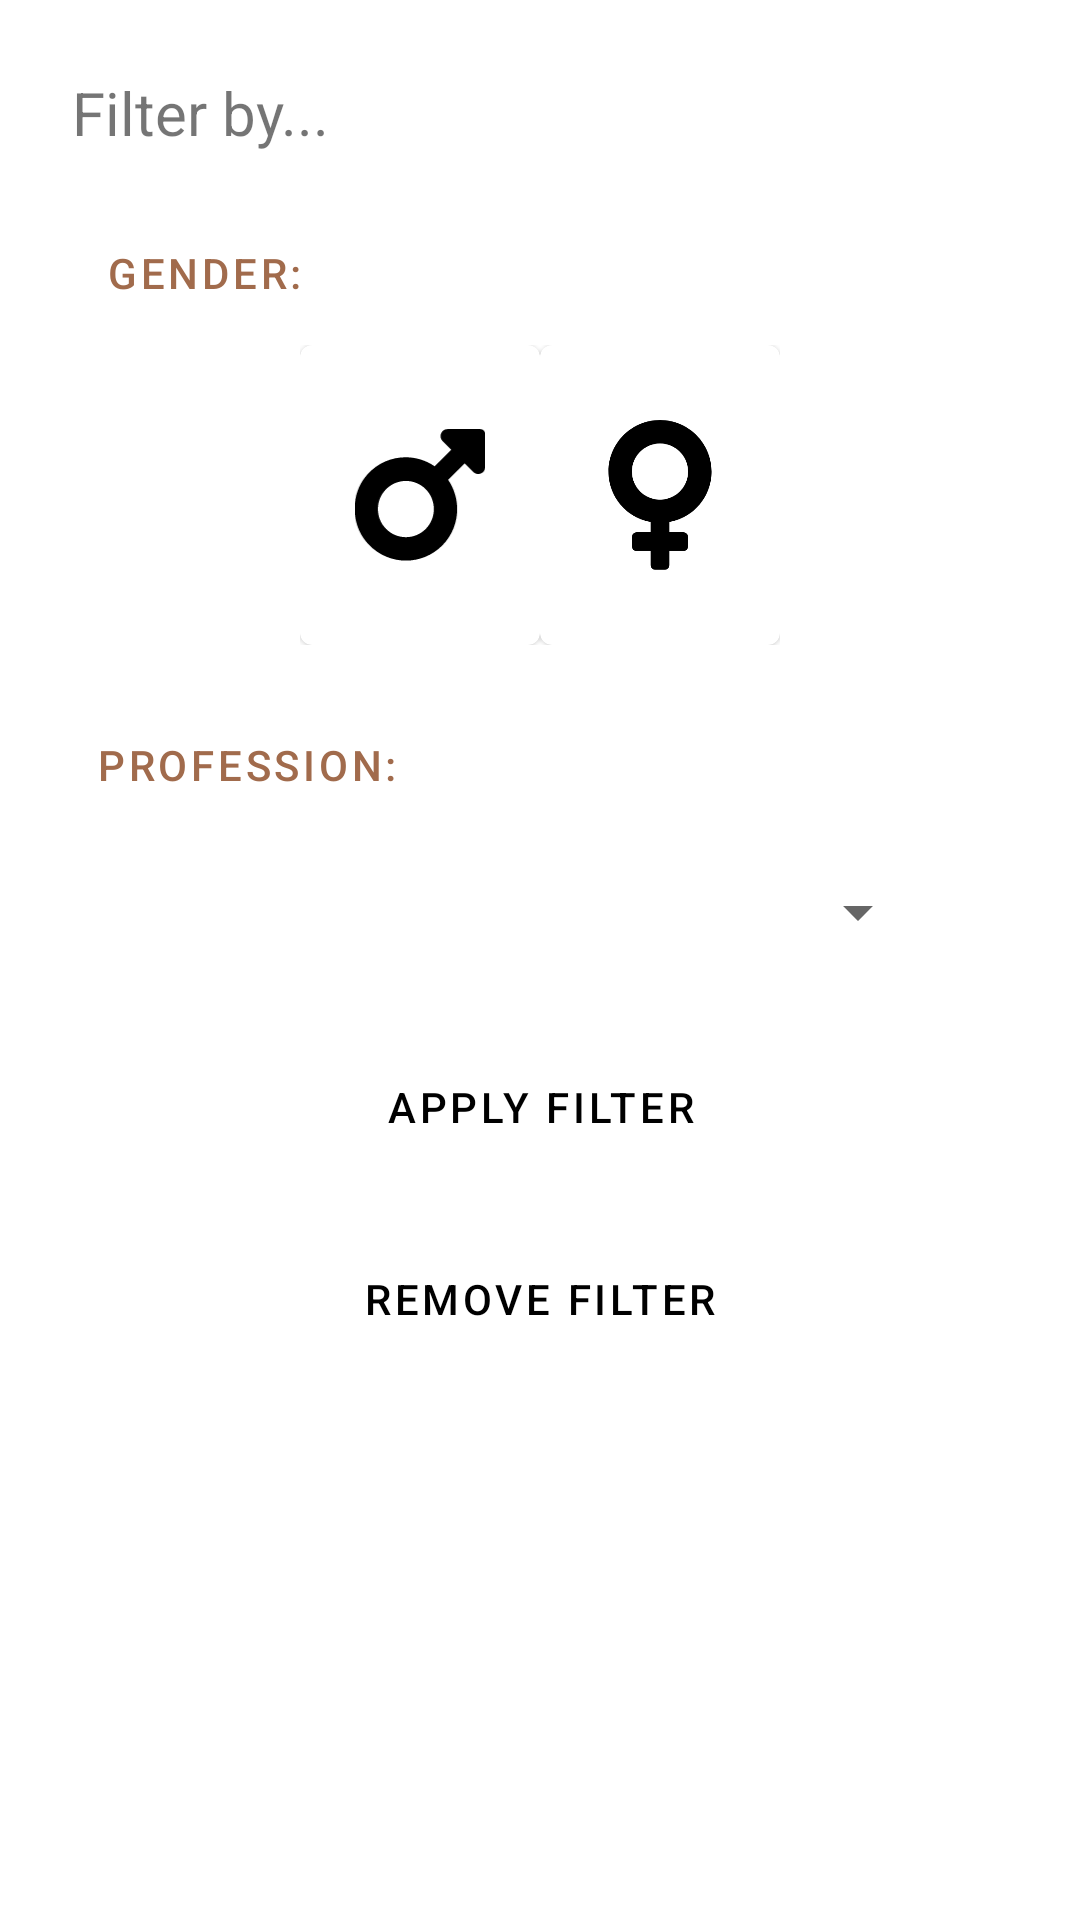

Named icons in this screenshot (1080×1920) and their centers, (x,y):
female: (660,495)
male: (420,495)
